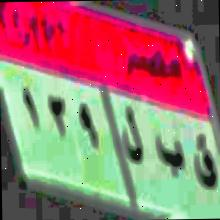1: (20, 82, 42, 144)
3: (46, 92, 68, 148)
9: (75, 97, 100, 159)
baa: (154, 127, 186, 183)
laam: (120, 97, 144, 170)
qaaf: (190, 130, 217, 198)
